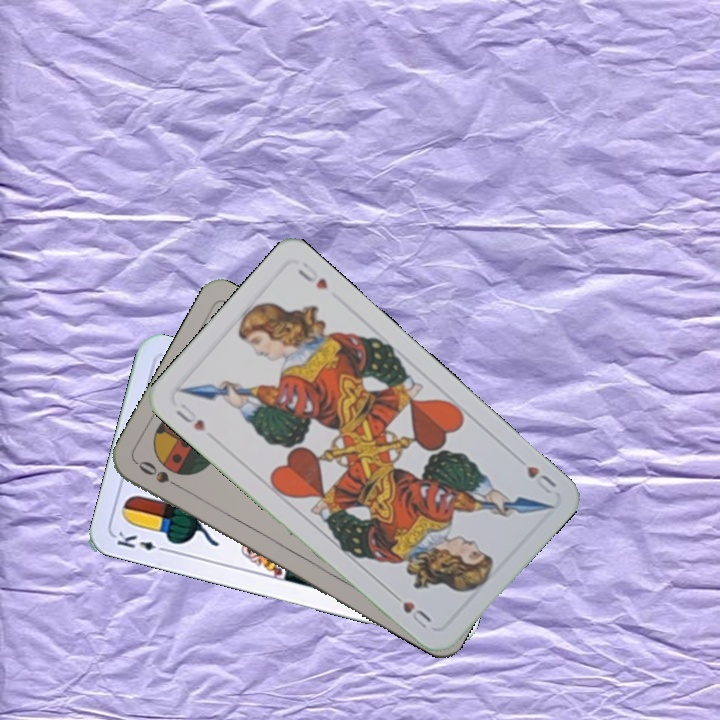EK: (113, 527, 171, 555)
HU: (171, 399, 209, 434), (523, 461, 559, 497)
SO: (133, 456, 187, 493)
